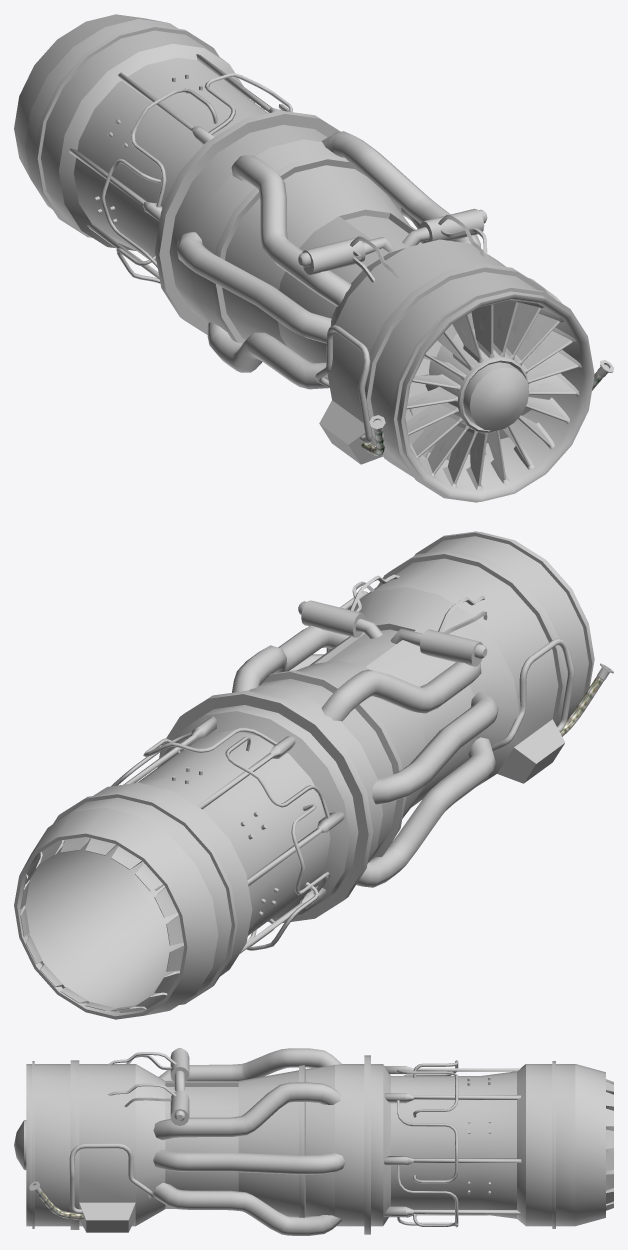
The model's file is Engine_full.fbx.
3 renders of one model, top to bottom at view 1: azimuth 30°, elevation 25°; view 2: azimuth 150°, elevation 25°; view 3: azimuth 270°, elevation 25°, orthographic. The views are drawn at different scales.
Visible parts, largest first — view 1: Pipes_rear; view 2: Pipes_rear; view 3: Pipes_rear.
Part boxes in pixels (<box>): Pipes_rear: <box>14,14,613,502</box>; Pipes_rear: <box>14,531,613,1019</box>; Pipes_rear: <box>14,1048,613,1235</box>.
Size of the model in its own units: 126 by 109 by 368.
